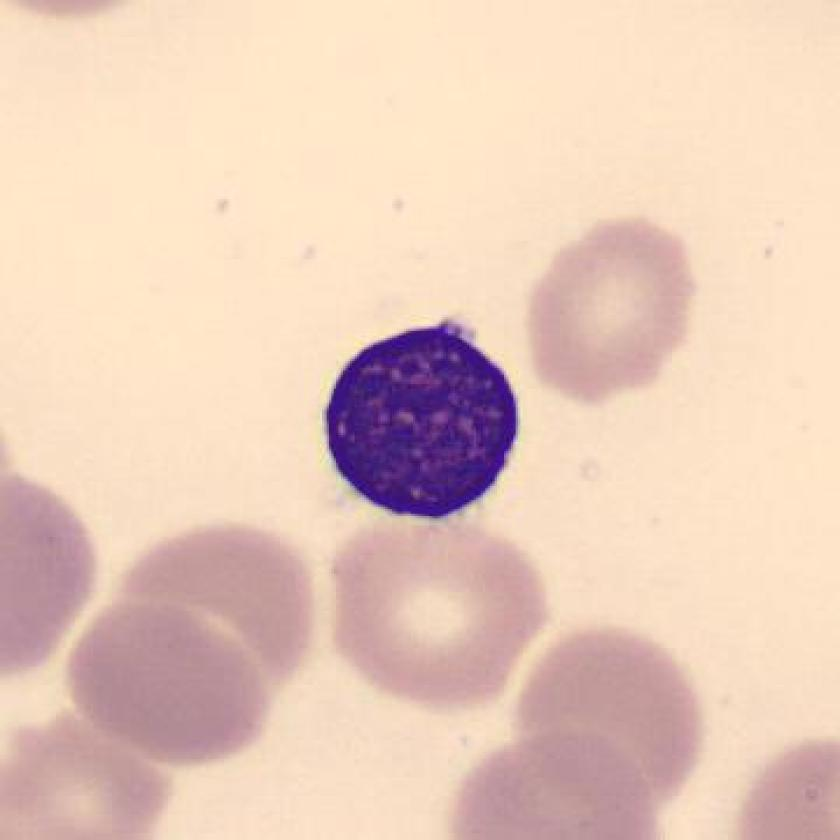lymphocyte: (307, 300, 535, 540)
